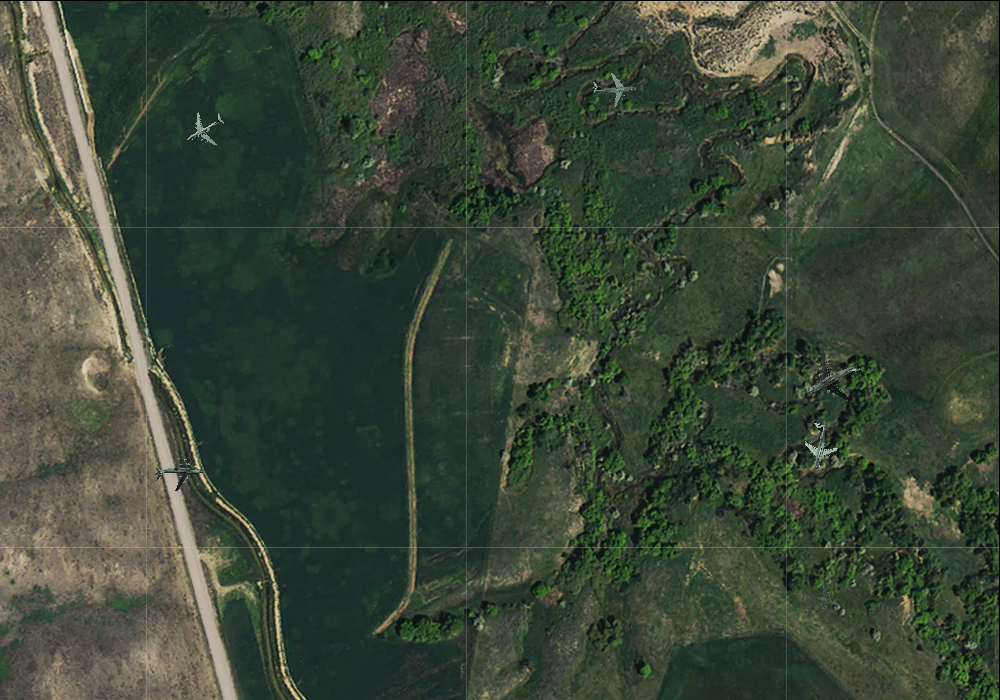plane: (793, 339, 875, 419), (176, 100, 232, 156), (792, 419, 844, 475), (153, 448, 204, 496), (591, 65, 639, 109), (799, 579, 843, 622)
